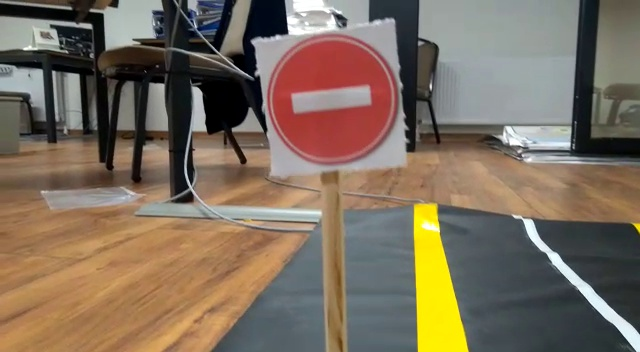girisi_olmayan_yol: (260, 34, 402, 168)
